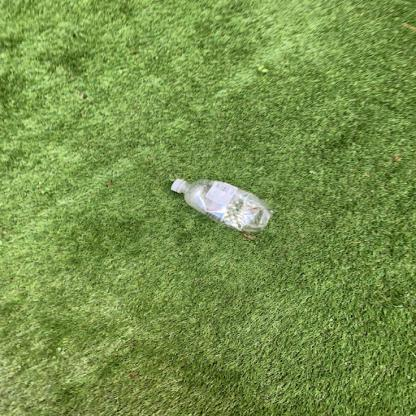trash: (166, 175, 272, 236)
